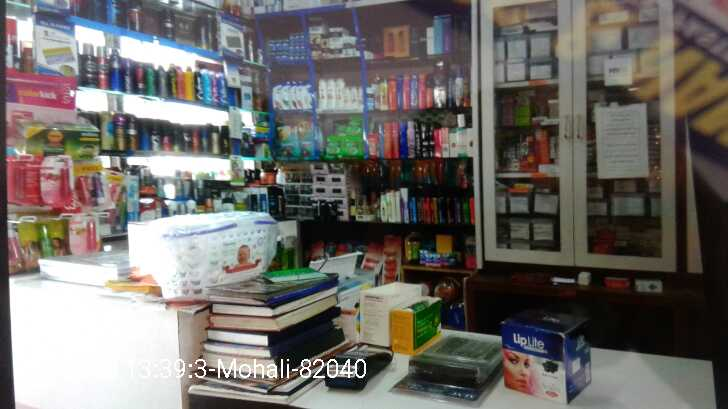beauty: (307, 17, 360, 59), (269, 80, 315, 111), (317, 79, 364, 109)
pharmacy: (263, 30, 309, 64), (269, 125, 302, 159), (323, 116, 366, 140), (339, 136, 367, 157), (323, 134, 341, 156)
